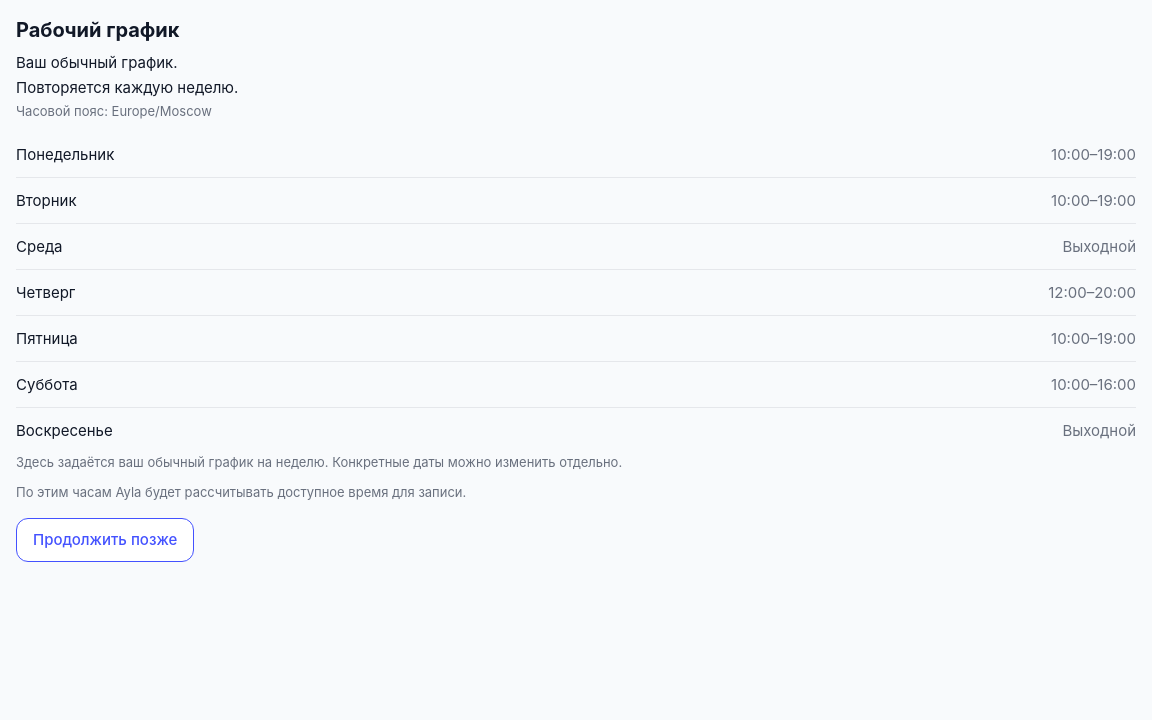
it: 4 · «Конфликт с записью» › показывает запись, «Открыть запись» и «Вернуться»; изменение не применено
Click the button "Среда Выходной" at (39, 247), box [16,224,1136,269]
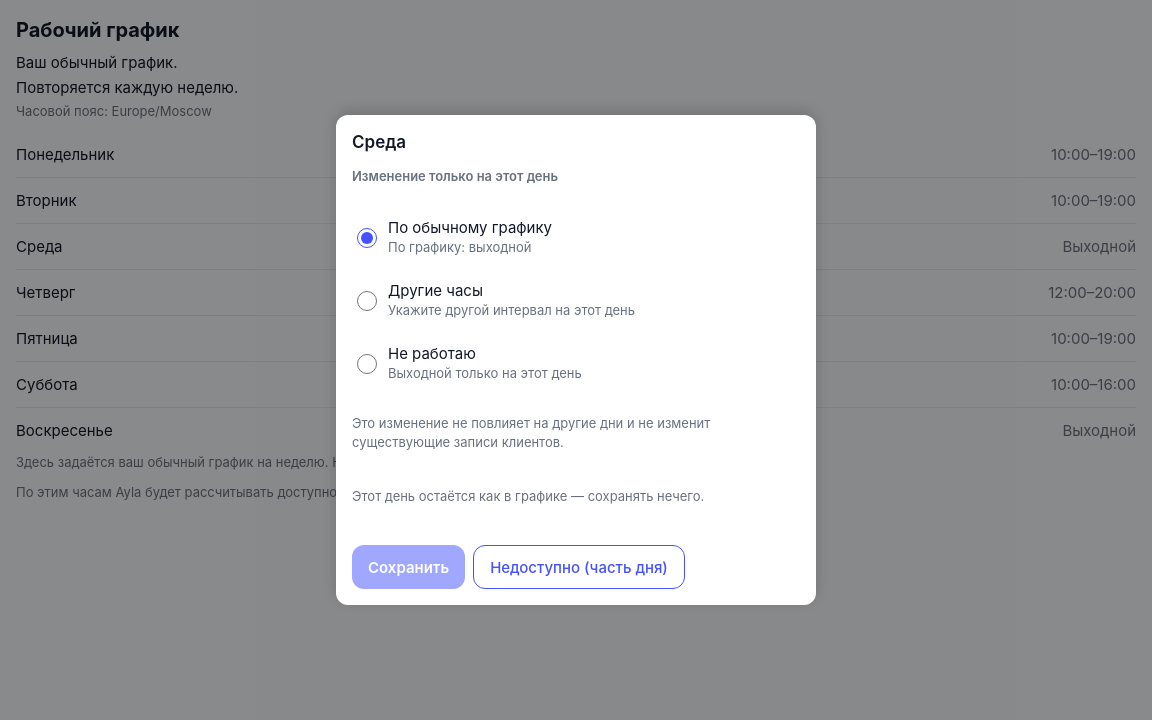
Click the radio button labelled "Не работаю Выходной только на этот день" at (367, 364), box [357,354,377,374]
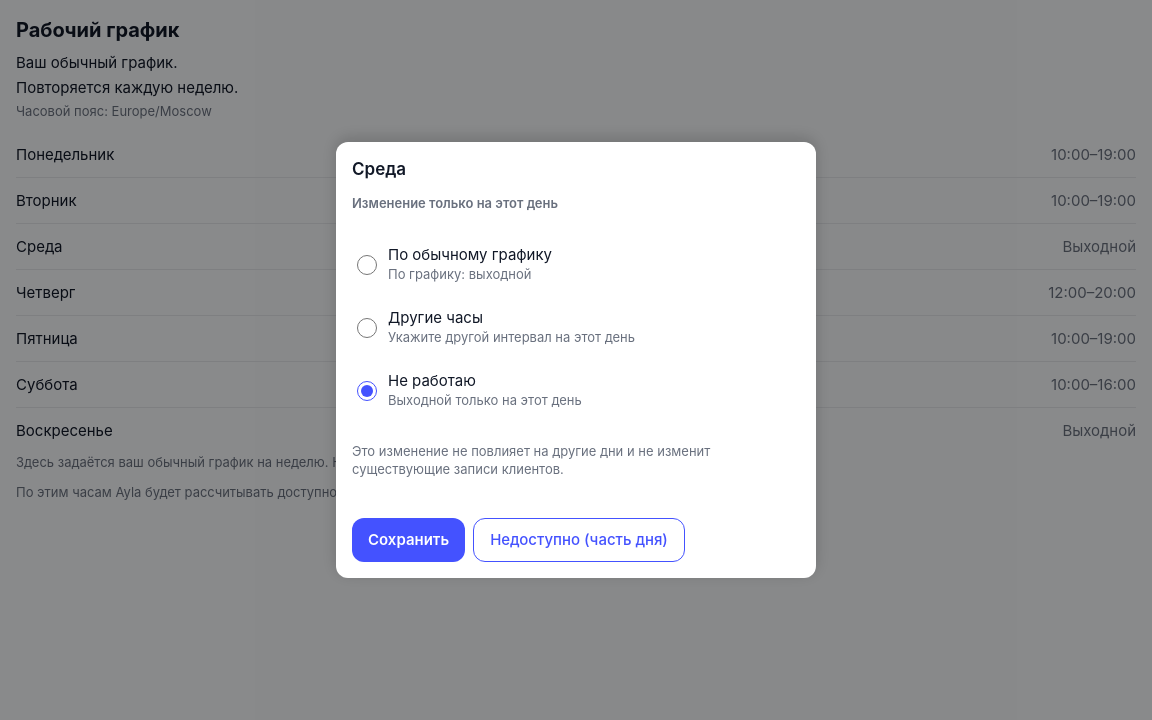
Click the button "Сохранить" at (409, 540), box [352,518,465,562]
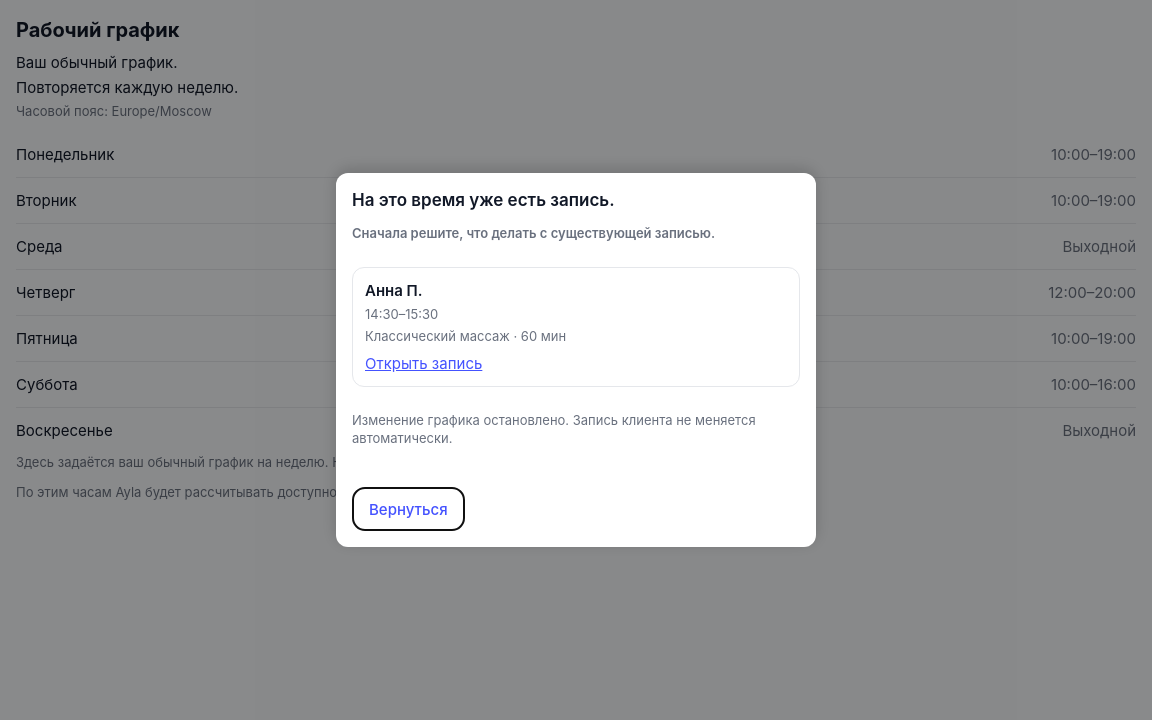
Check: the heading "На это время уже есть запись." is shown, box [352,190,615,210]
Check: the text "Сначала решите, что делать с существующей записью." is shown, box [352,225,715,241]
Check: the text "Анна П." is shown, box [365,281,423,300]
Note: «Вернуться» — к изменению графика, черновик цел.
Click the button "Вернуться" at (408, 509), box [352,487,465,531]
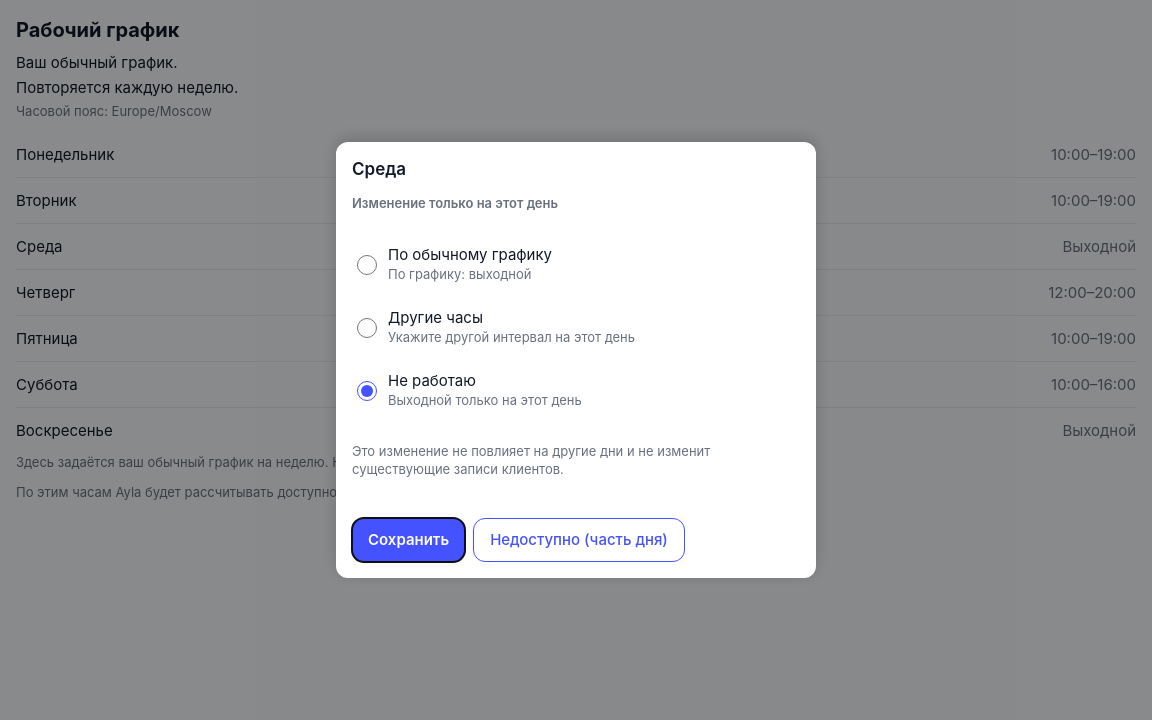
Check: the text "Изменение только на этот день" is shown, box [352,195,558,211]
Check: the radio button labelled "Не работаю Выходной только на этот день" is checked, box [357,382,377,402]
